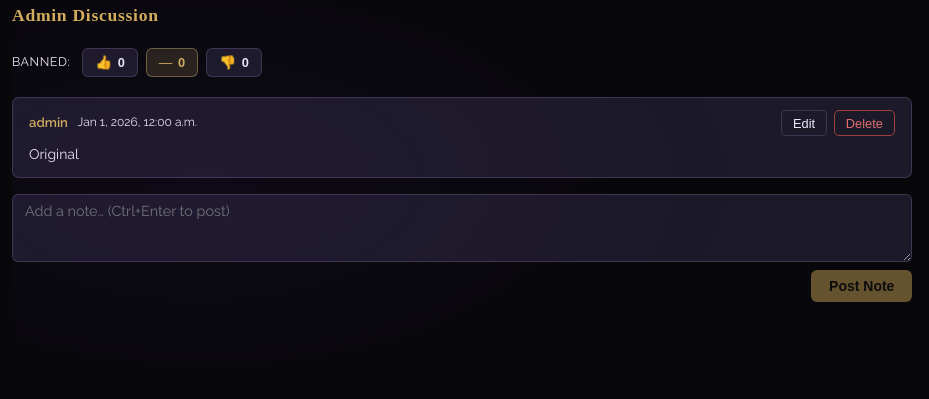
Test: CardDiscussion › shows edit textarea when Edit is clicked
Click the button "Edit" at (804, 123), box 781,110 -> 827,136
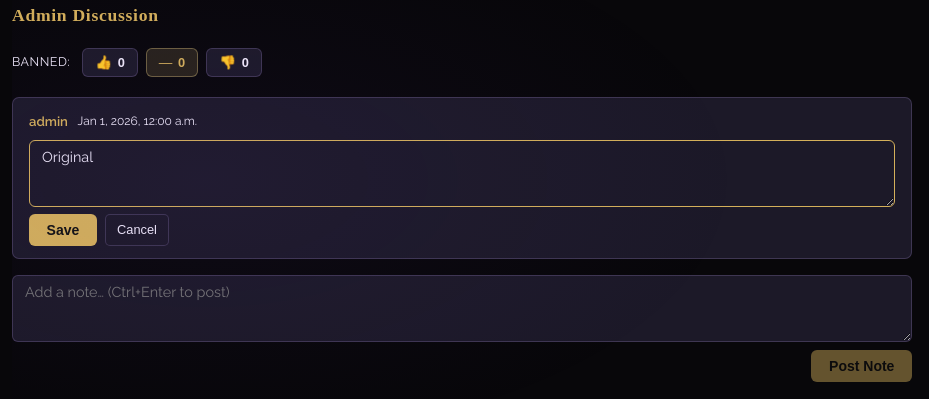
Expected: the text box showing "Original" is shown, 29,140 -> 895,207
